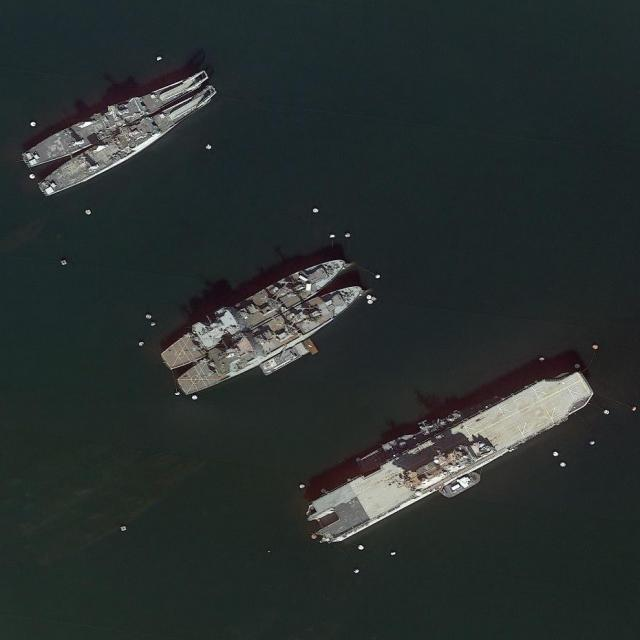Landing: (299, 358, 599, 551)
Other Warship: (170, 276, 371, 403), (154, 246, 354, 372), (19, 56, 212, 176), (33, 85, 224, 203)
